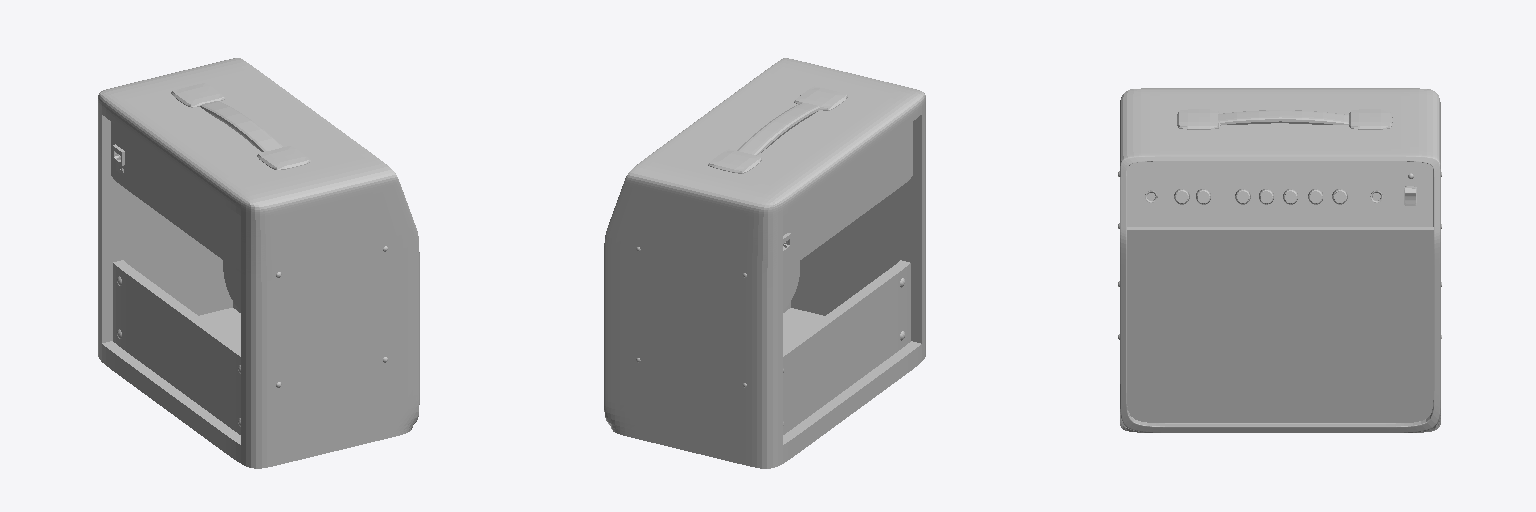
File: Guitar Amplifier.obj
3 renders of one model, left to right at view 1: azimuth 30°, elevation 25°; view 2: azimuth 150°, elevation 25°; view 3: azimuth 270°, elevation 25°, orthographic.
Visible parts, largest first — view 1: Plane, Plane.011_Plane.007, Plane.009_Plane.010, Plane.007_Plane.008, Plane.008_Plane.009, Circle.017_Circle.007; view 2: Plane, Plane.011_Plane.007, Plane.009_Plane.010, Plane.008_Plane.009, Plane.007_Plane.008, Circle.017_Circle.007; view 3: Plane.006_Plane.004, Plane, Plane.004_Plane.006, Plane.005_Plane.001, Plane.009_Plane.010, Plane.008_Plane.009, Plane.007_Plane.008.
Part boxes in pixels (x1,y1,x2,y2): Plane: (98,58,419,468); Plane.011_Plane.007: (111,122,240,270); Plane.009_Plane.010: (200,101,282,151); Plane.007_Plane.008: (257,146,310,169); Plane.008_Plane.009: (171,83,224,107); Circle.017_Circle.007: (223,260,240,309); Plane: (604,58,925,468); Plane.011_Plane.007: (783,122,912,270); Plane.009_Plane.010: (737,103,819,155); Plane.008_Plane.009: (708,149,761,173); Plane.007_Plane.008: (794,86,847,110); Circle.017_Circle.007: (783,261,799,309); Plane.006_Plane.004: (1127,236,1433,422); Plane: (1120,88,1440,432); Plane.004_Plane.006: (1127,161,1432,226); Plane.005_Plane.001: (1127,227,1433,235); Plane.009_Plane.010: (1218,110,1348,124); Plane.008_Plane.009: (1349,109,1392,129); Plane.007_Plane.008: (1177,109,1220,129).
Size of the model in its own units: 1.23 by 1.87 by 2.02.